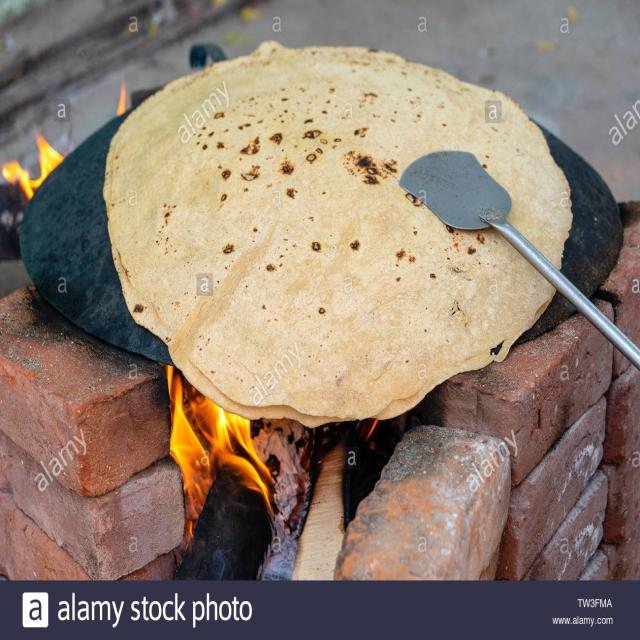roti: (103, 42, 574, 426)
